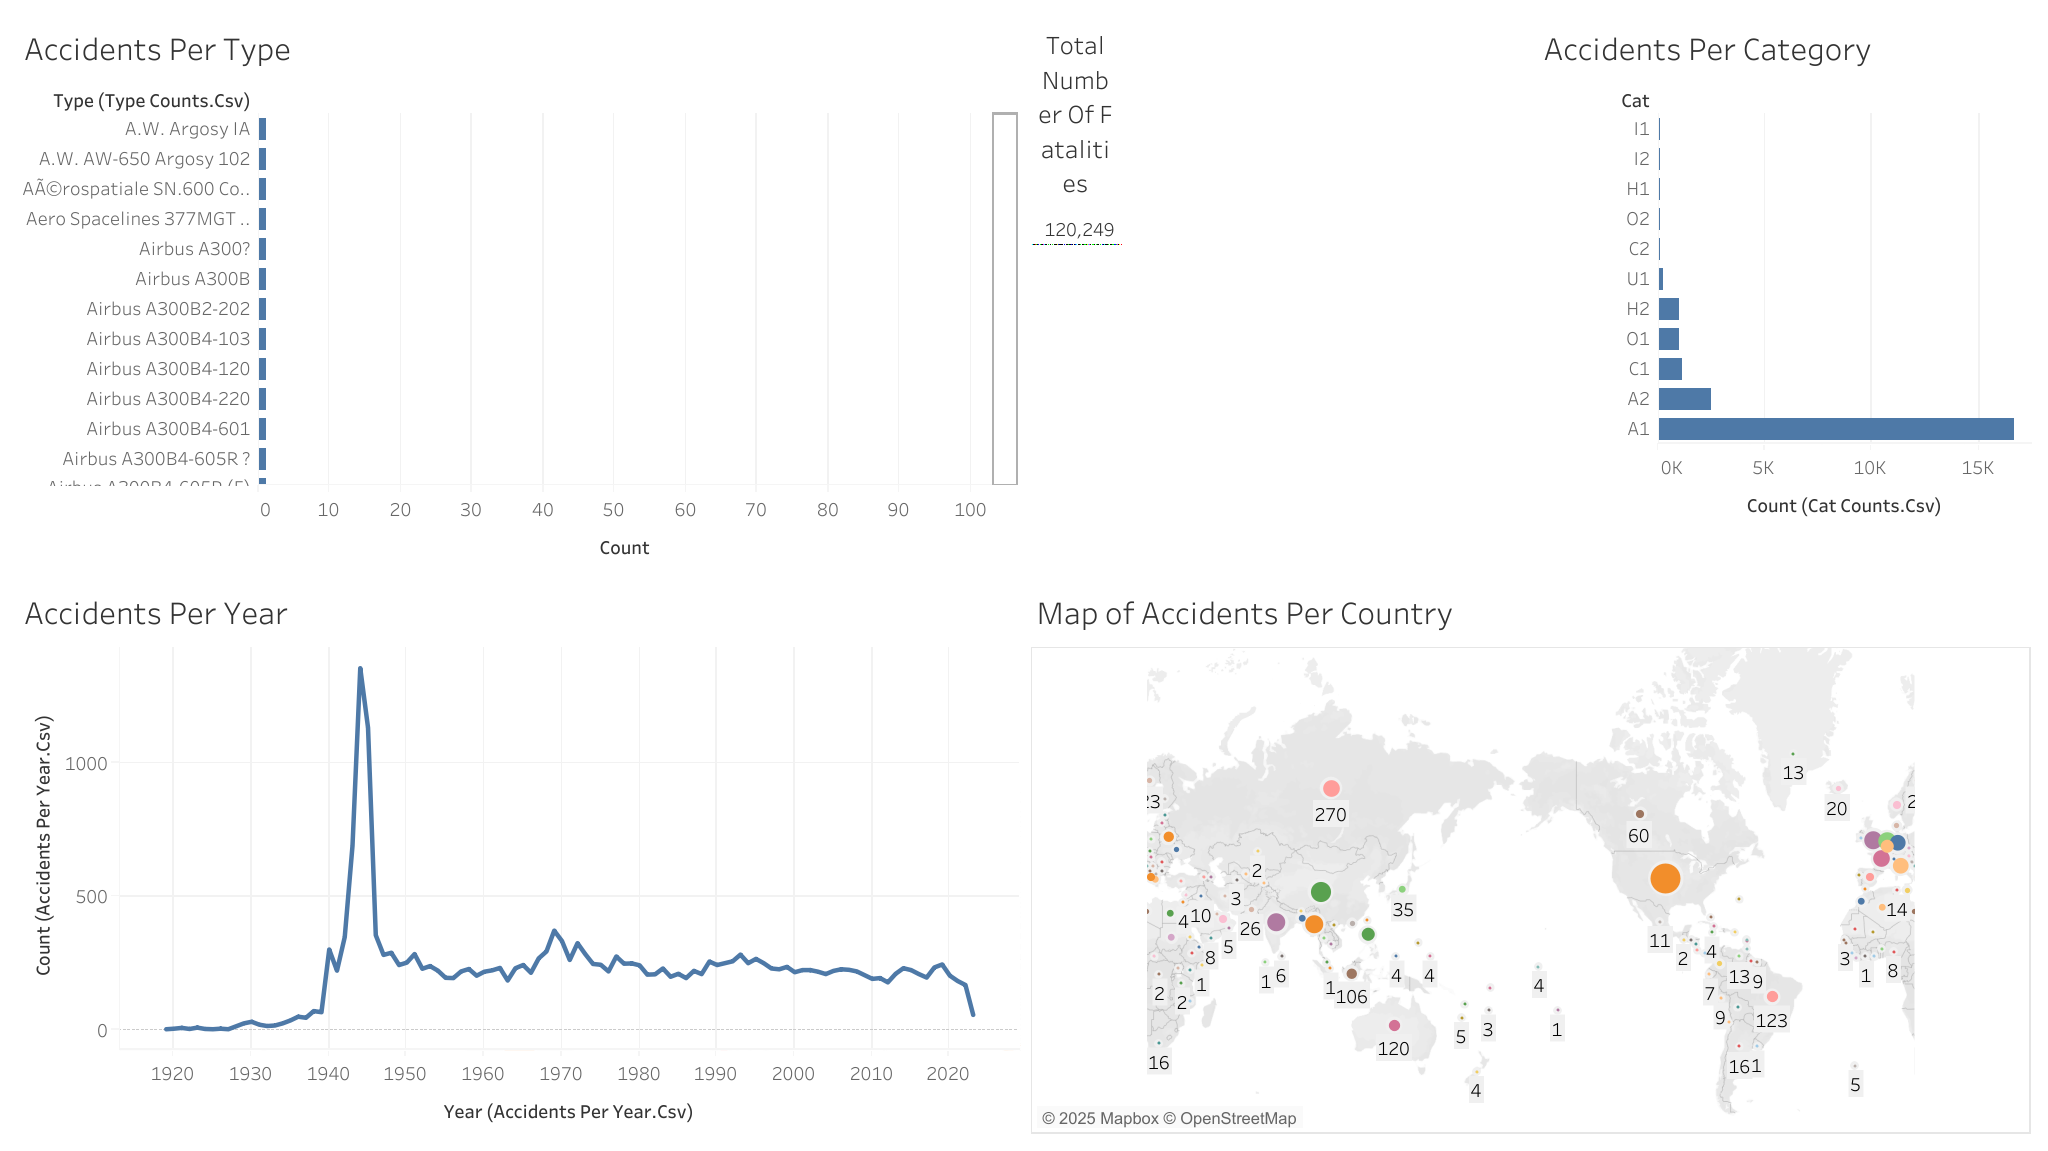

What the dashboard file says about the page in this screenshot:
{"tool":"tableau","page":{"name":"Dashboard 1","canvas":[1366,768],"ordinal":0},"visuals":[{"type":"worksheet","title":"Accidents Per Type","mark":"Automatic","rows":["type (type_counts.csv)"],"cols":["count"],"box":[8,8,675,376]},{"type":"worksheet","title":"Total Number Of Fatalitites","mark":"Automatic","box":[683,8,337.5,376]},{"type":"worksheet","title":"Accidents Per Category","mark":"Bar","rows":["cat"],"cols":["count (cat_counts.csv)"],"box":[1020.5,8,337.5,376]},{"type":"worksheet","title":"Accidents Per Year","mark":"Automatic","rows":["count (accidents_per_year.csv)"],"cols":["year (accidents_per_year.csv)"],"box":[8,384,675,376]},{"type":"worksheet","title":"Map of Accidents Per Country","mark":"Automatic","box":[683,384,675,376]}]}

Visuals, with their boxes in screenshot pixels (x1, y1, x2, y2), scaled from the page's 1366x768 canvas onto the 2048x1151 screenshot:
"Accidents Per Type" worksheet: region(12, 12, 1024, 576)
"Total Number Of Fatalitites" worksheet: region(1024, 12, 1530, 576)
"Accidents Per Category" worksheet (Bar marks): region(1530, 12, 2036, 576)
"Accidents Per Year" worksheet: region(12, 576, 1024, 1139)
"Map of Accidents Per Country" worksheet: region(1024, 576, 2036, 1139)
